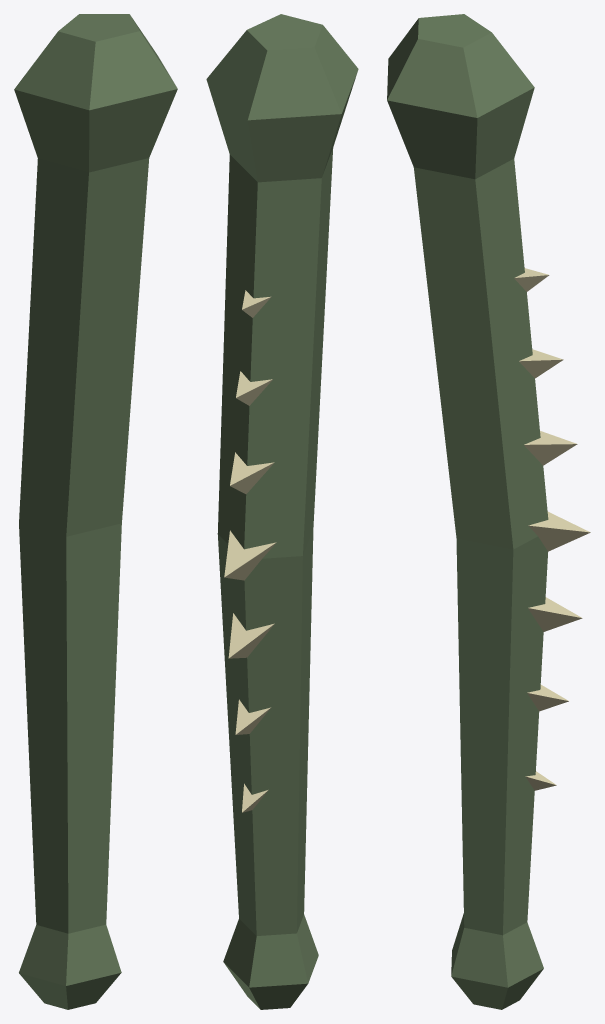
Rendered from LarvaeLegUpperLB.fbx.
The picture shows the model from 3 angles, left to right: view 1: azimuth 30°, elevation 25°; view 2: azimuth 150°, elevation 25°; view 3: azimuth 270°, elevation 25°; orthographic projection. The views are drawn at different scales.
Parts seen in each view (by area): view 1: Arm15; view 2: Arm15; view 3: Arm15.
Part boxes in pixels (box(x1,y1,x2,y2)): Arm15: box(14, 14, 177, 1009); Arm15: box(206, 14, 358, 1009); Arm15: box(387, 14, 590, 1009).
Size of the model in its own units: 1.2 by 8.01 by 1.52.
